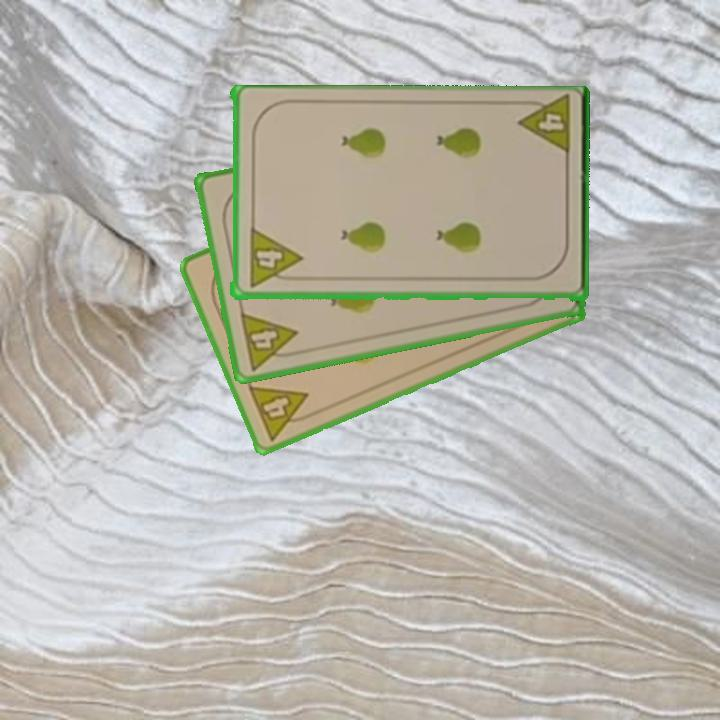4p: (244, 382, 319, 443), (236, 309, 304, 373), (514, 95, 573, 160), (245, 226, 303, 291)
